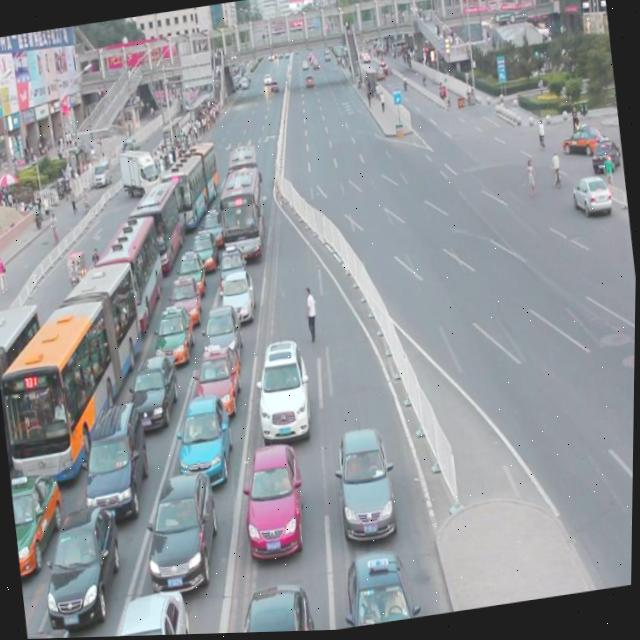bus: (117, 146, 161, 200)
car: (39, 500, 128, 628), (141, 469, 226, 599), (78, 402, 156, 519), (238, 441, 311, 563), (328, 427, 403, 544), (172, 391, 240, 494), (252, 338, 316, 445), (339, 550, 423, 630), (10, 468, 71, 578), (98, 583, 193, 638), (228, 581, 317, 635), (191, 341, 247, 424), (127, 351, 184, 432), (198, 304, 247, 366), (152, 304, 198, 367), (165, 272, 206, 332), (217, 271, 259, 325), (558, 121, 608, 162), (568, 175, 612, 220), (174, 250, 209, 299), (216, 246, 249, 291), (190, 228, 219, 274), (589, 138, 621, 178), (200, 206, 227, 250), (29, 624, 81, 639)
van: (0, 256, 158, 489), (0, 303, 58, 493), (93, 215, 172, 341), (124, 178, 191, 278), (158, 140, 223, 232), (216, 166, 272, 264), (224, 144, 267, 212)
